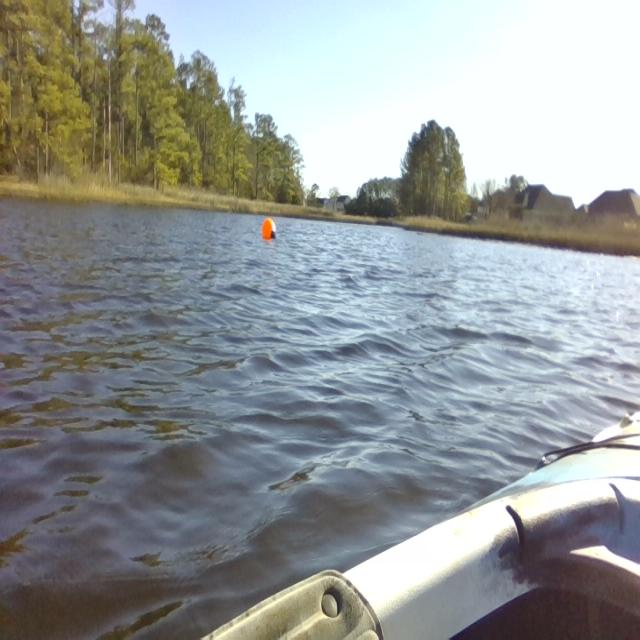Buoy: (257, 212, 281, 244)
